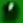black: (0, 0, 23, 23)
